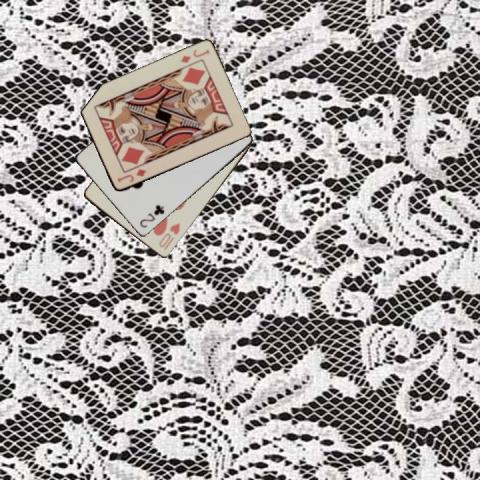10h: (155, 220, 182, 251)
2c: (137, 202, 166, 229)
Jd: (114, 166, 147, 184), (178, 46, 211, 64)
